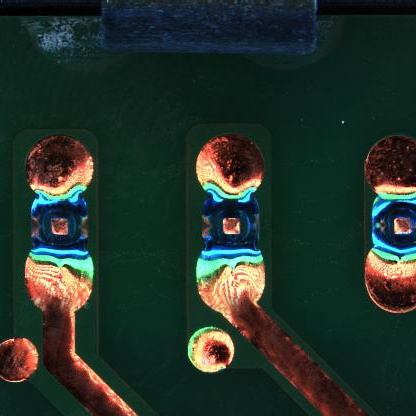spot: (199, 190, 260, 258), (28, 190, 90, 252), (370, 190, 416, 255)
